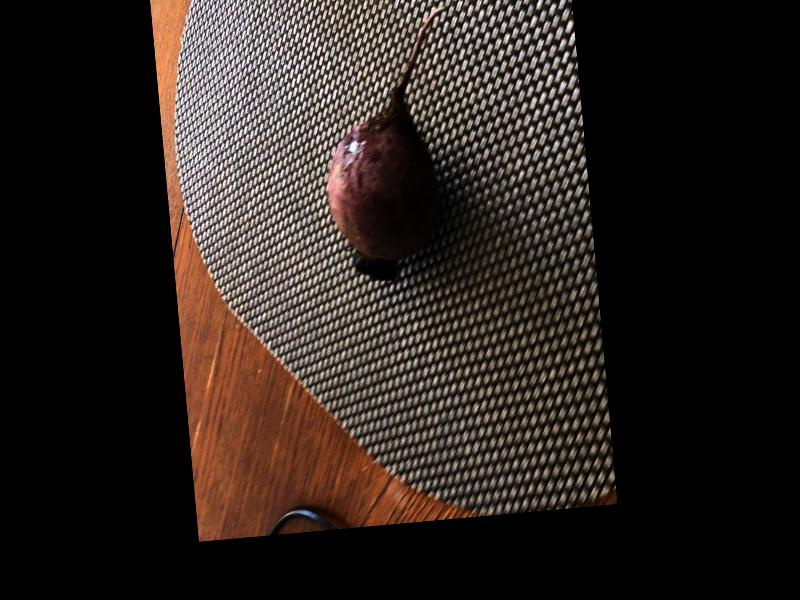Beet: (312, 5, 469, 286)
